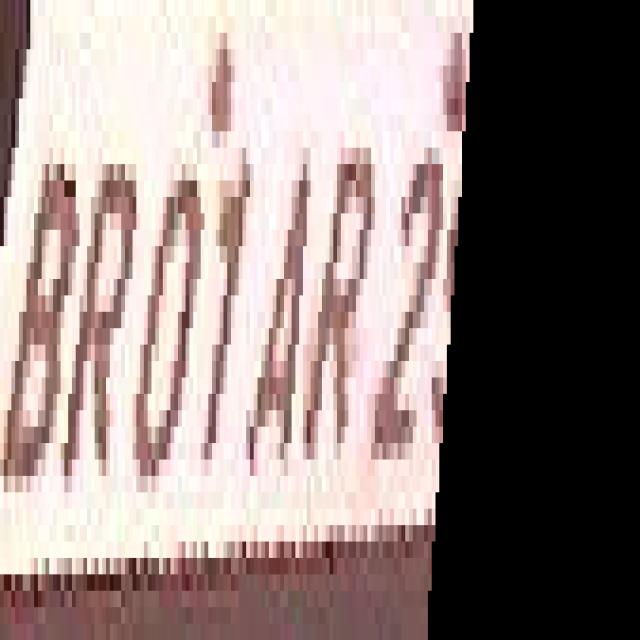license_plate: (0, 17, 485, 574)
